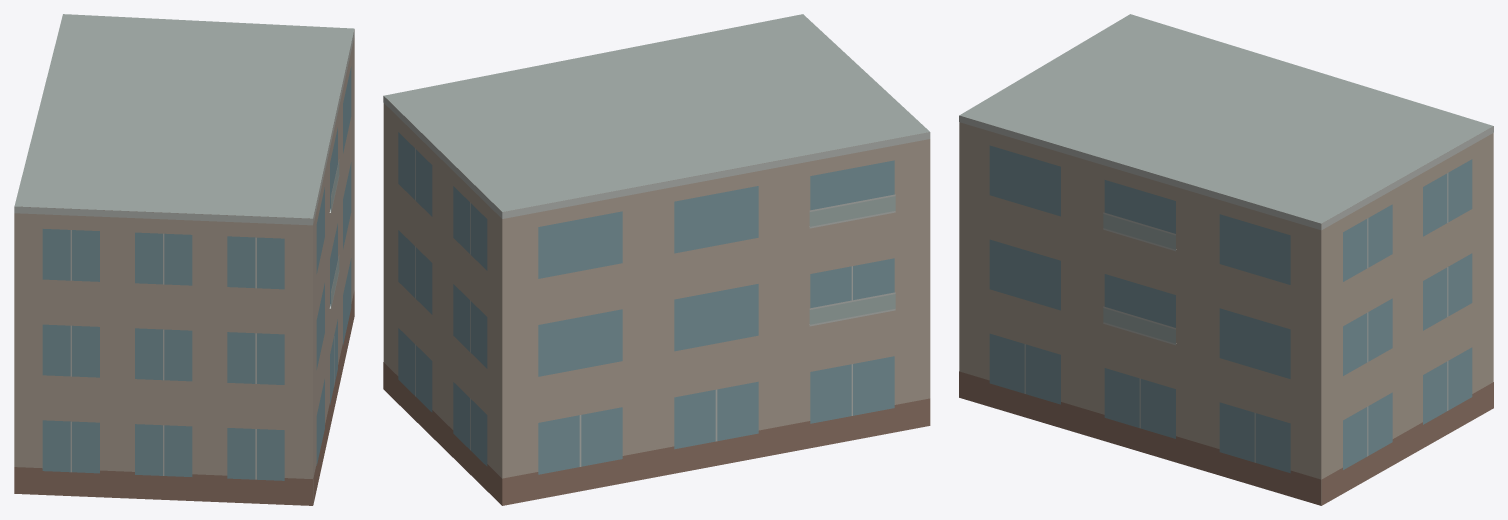
Rendered from survey-upis-32826838.glb.
3 renders of one model, left to right at view 1: azimuth 30°, elevation 25°; view 2: azimuth 150°, elevation 25°; view 3: azimuth 270°, elevation 25°, orthographic. The views are drawn at different scales.
Parts seen in each view (by area): view 1: survey-upis-32826838.tmp; view 2: survey-upis-32826838.tmp; view 3: survey-upis-32826838.tmp.
Boxes of the visible parts, x1,y1,x2,y2 form: survey-upis-32826838.tmp: (14,14,354,505); survey-upis-32826838.tmp: (383,14,930,505); survey-upis-32826838.tmp: (959,14,1493,505).
Size of the model in its own units: 16.42 by 10.3 by 17.69.
